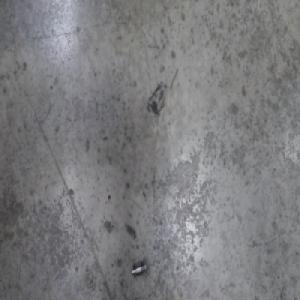Bolt: (131, 259, 148, 280)
